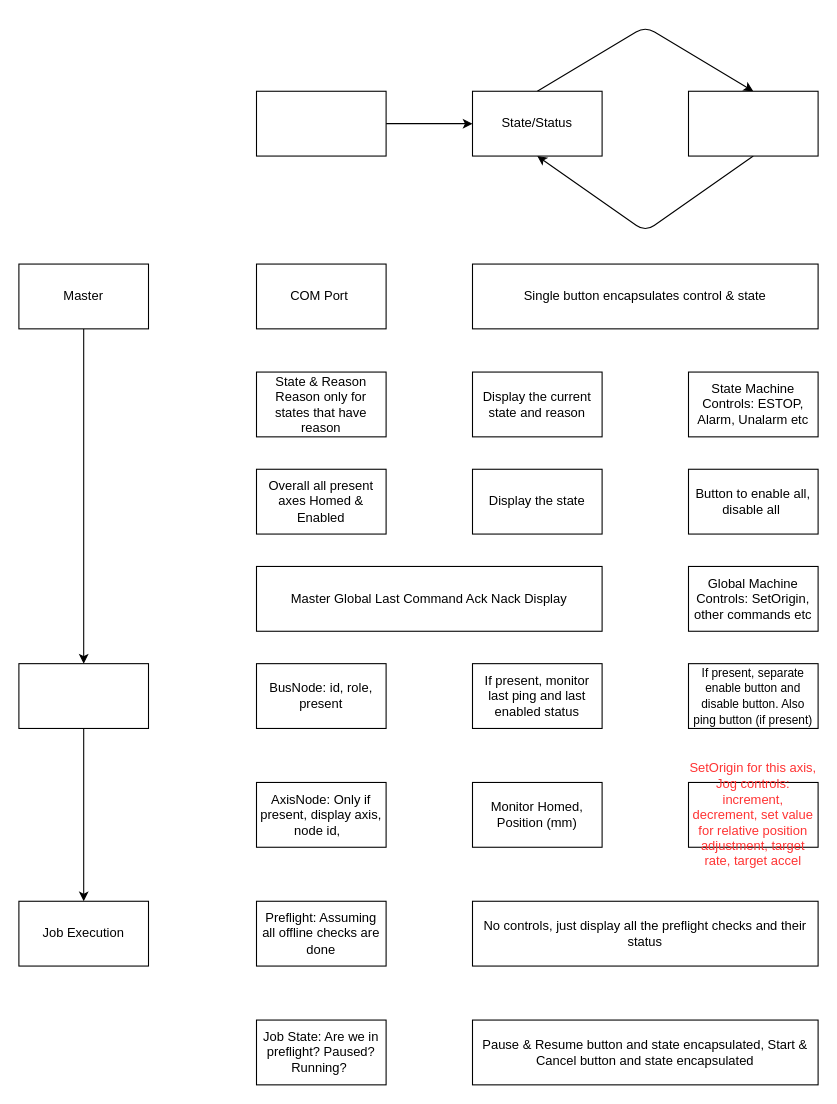
The diagram is 837 pixels wide and 1104 high, and some of its shapes have lost their labels. Each missing label, with the centre of its shape:
Control: the point at 752,123
Definition: the point at 320,123
Nodes: the point at 83,695
